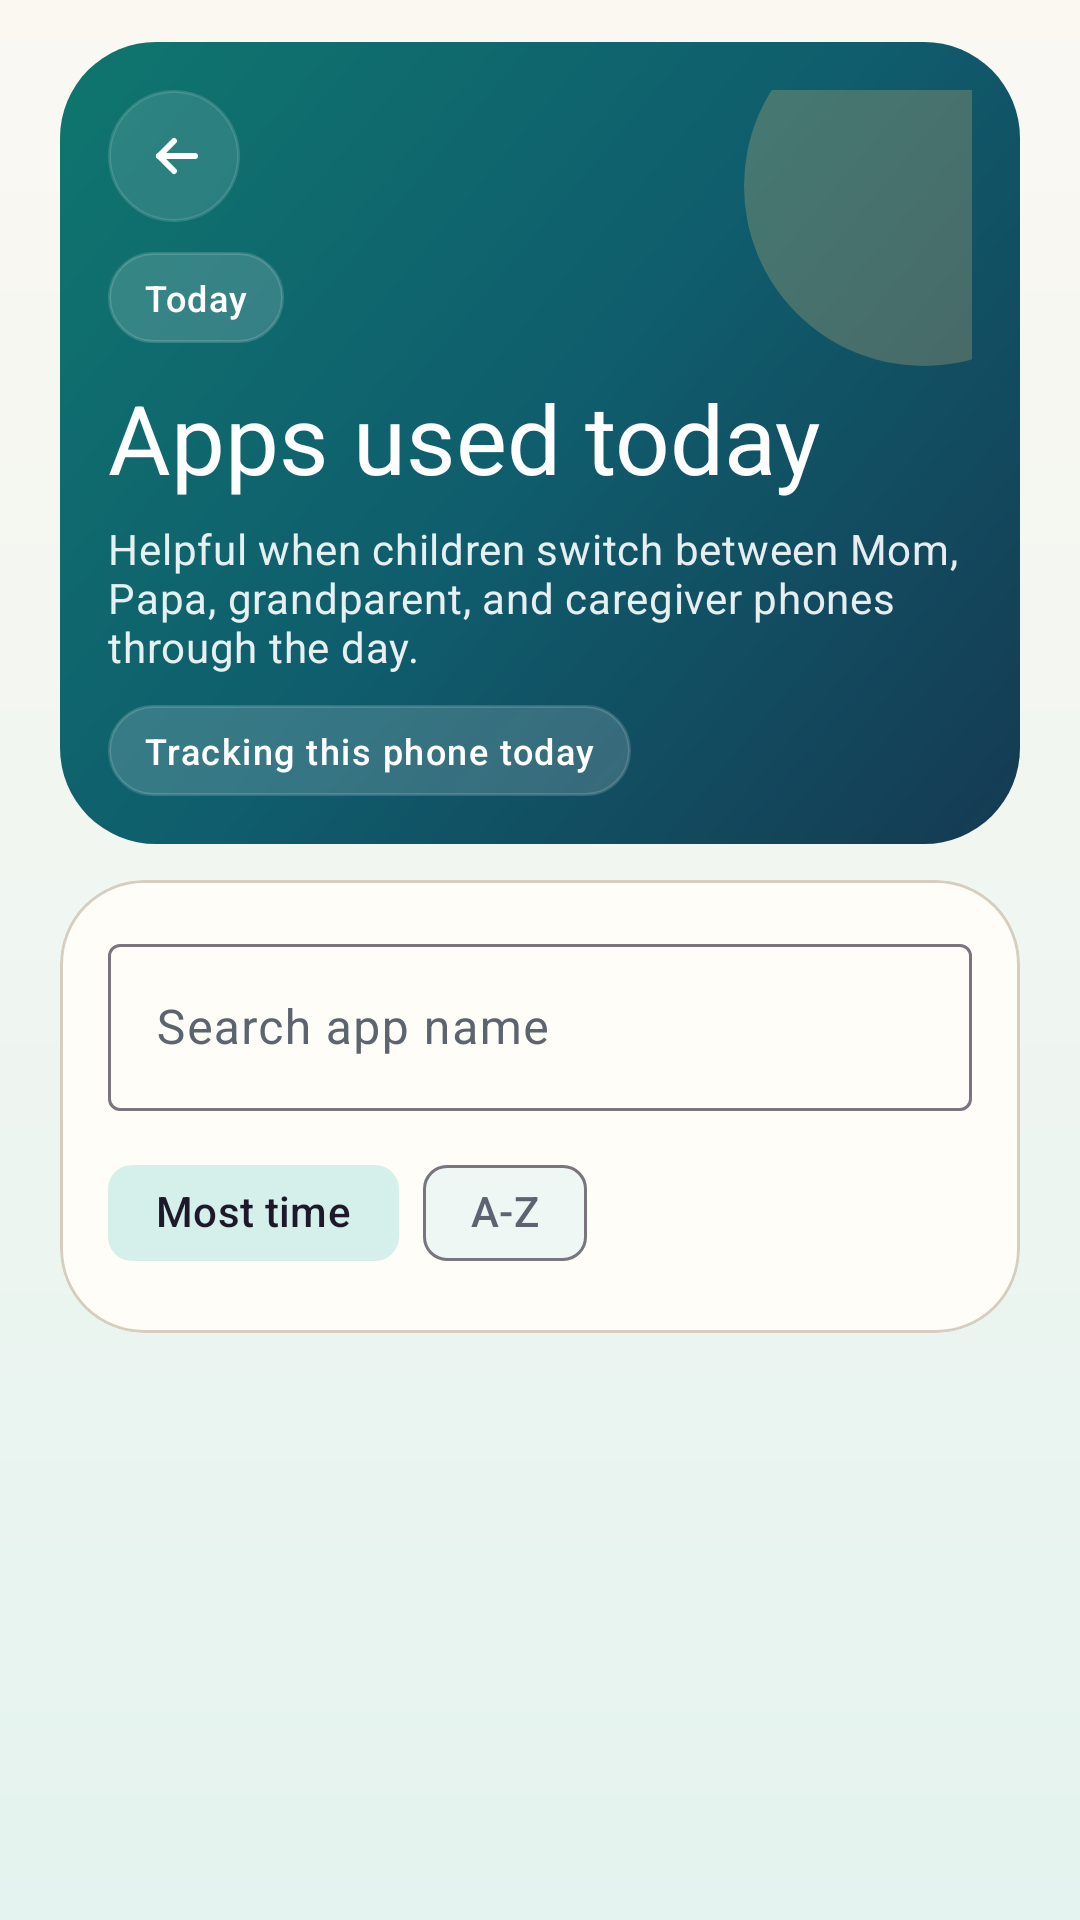

Icons on this 1080×1920 Android screen, each with the point to tap as [x,y]:
Back: [174,156]
